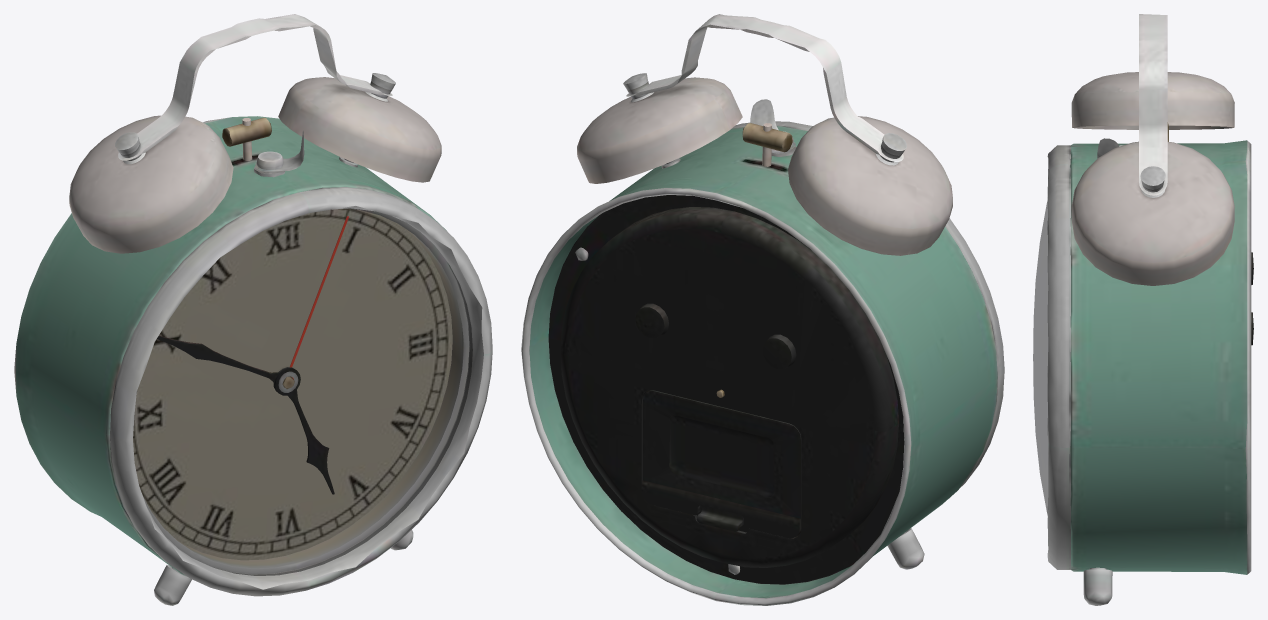
File: clock.glb
3 views of the same model, side by side, from view 1: azimuth 30°, elevation 25°; view 2: azimuth 150°, elevation 25°; view 3: azimuth 270°, elevation 25° (orthographic). The views are drawn at different scales.
Visible parts, largest first — view 1: clock; view 2: clock; view 3: clock.
Boxes of the visible parts, bbox=[...] form: clock: bbox=[14, 14, 492, 605]; clock: bbox=[521, 14, 1004, 605]; clock: bbox=[1033, 14, 1253, 605].
Size of the model in its own units: 0.1317 by 0.1742 by 0.0667.
Materials: 2 (2 with a texture image).
